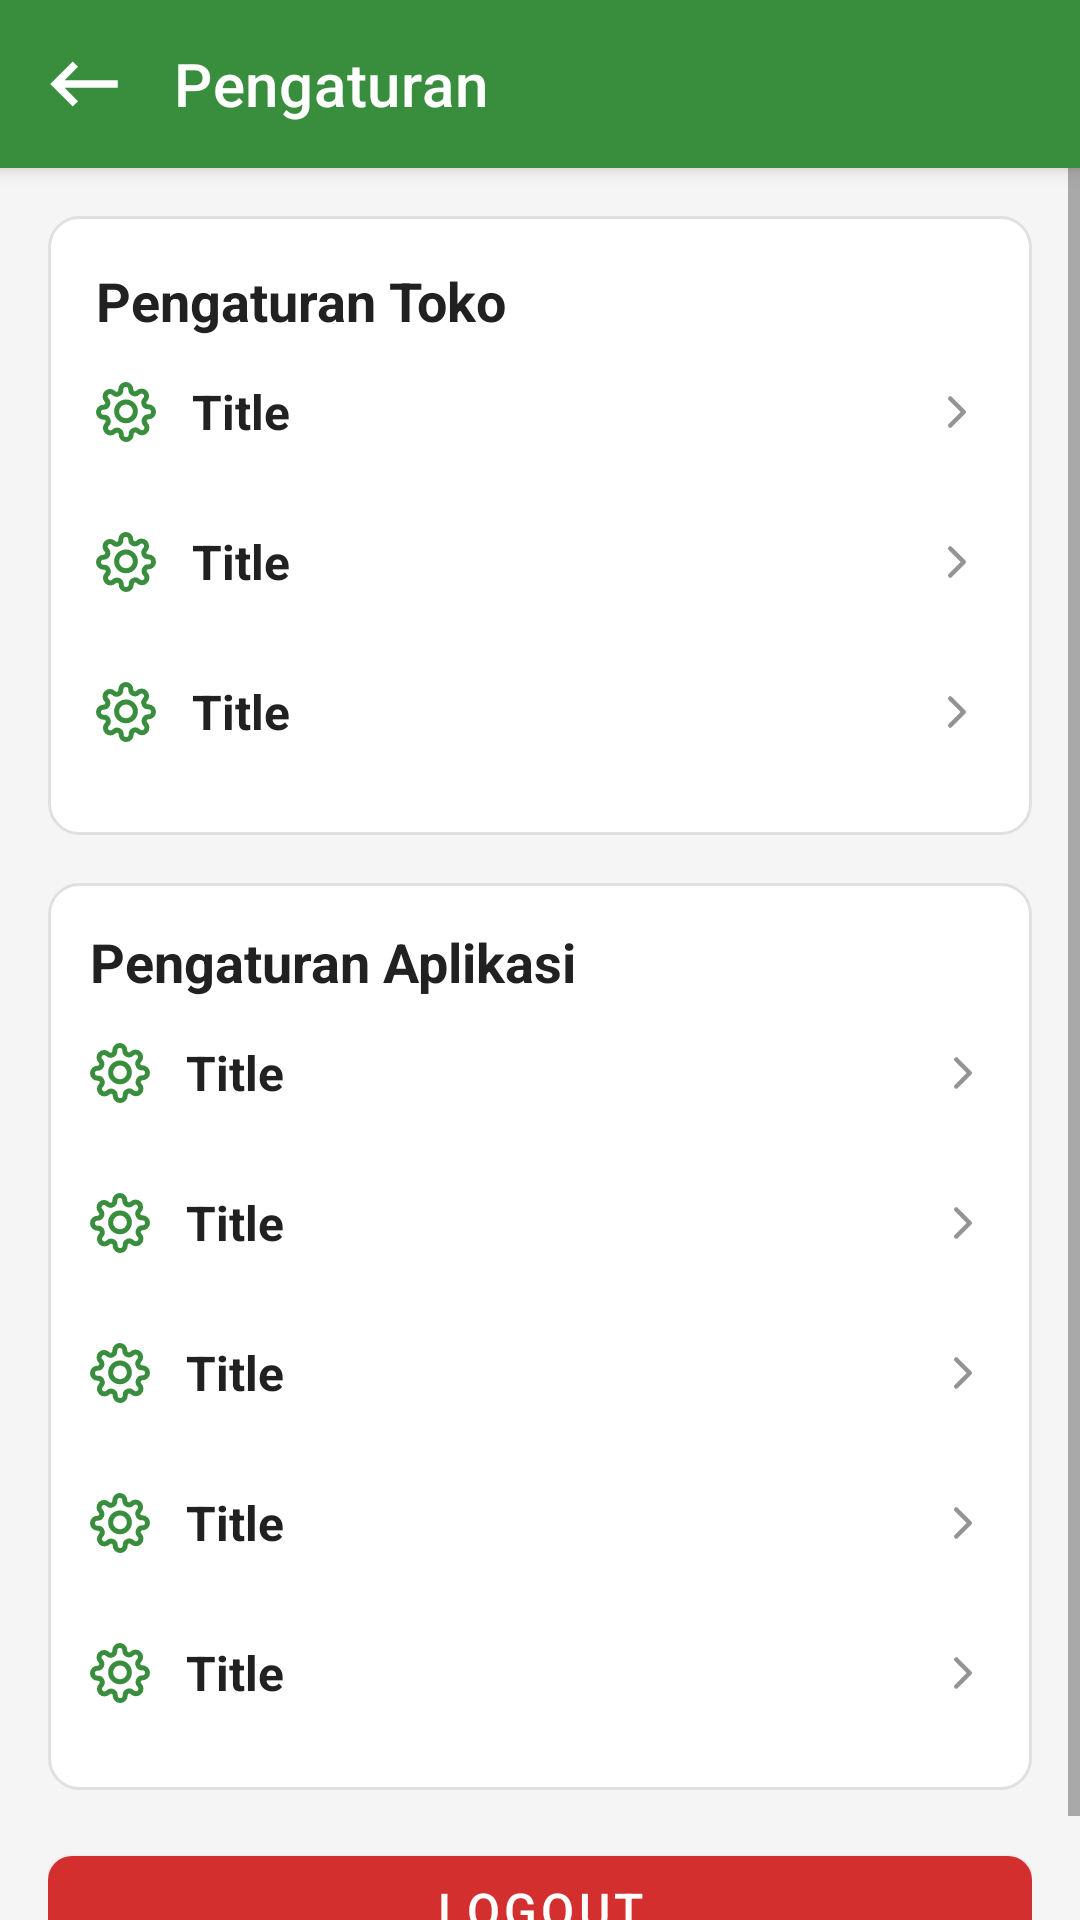

Icons on this 1080x1920 Android screen, each with the point to tap as [x,y]:
setting: [126,412], [126,562], [126,712], [120,1073], [120,1223], [120,1373], [120,1523], [120,1673]
